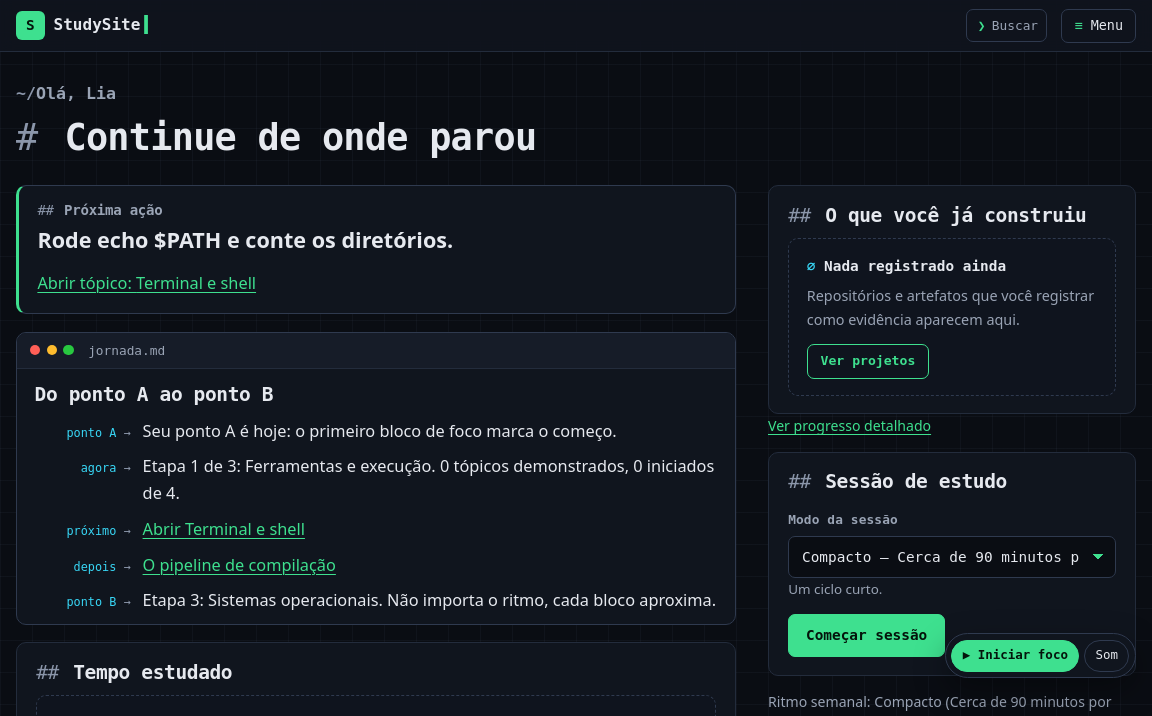
Test: paleta de comandos › avisa quando nada foi encontrado
The width and height of the screenshot is (1152, 716).
Click the button "Buscar" at (1006, 26), box [966, 9, 1047, 42]
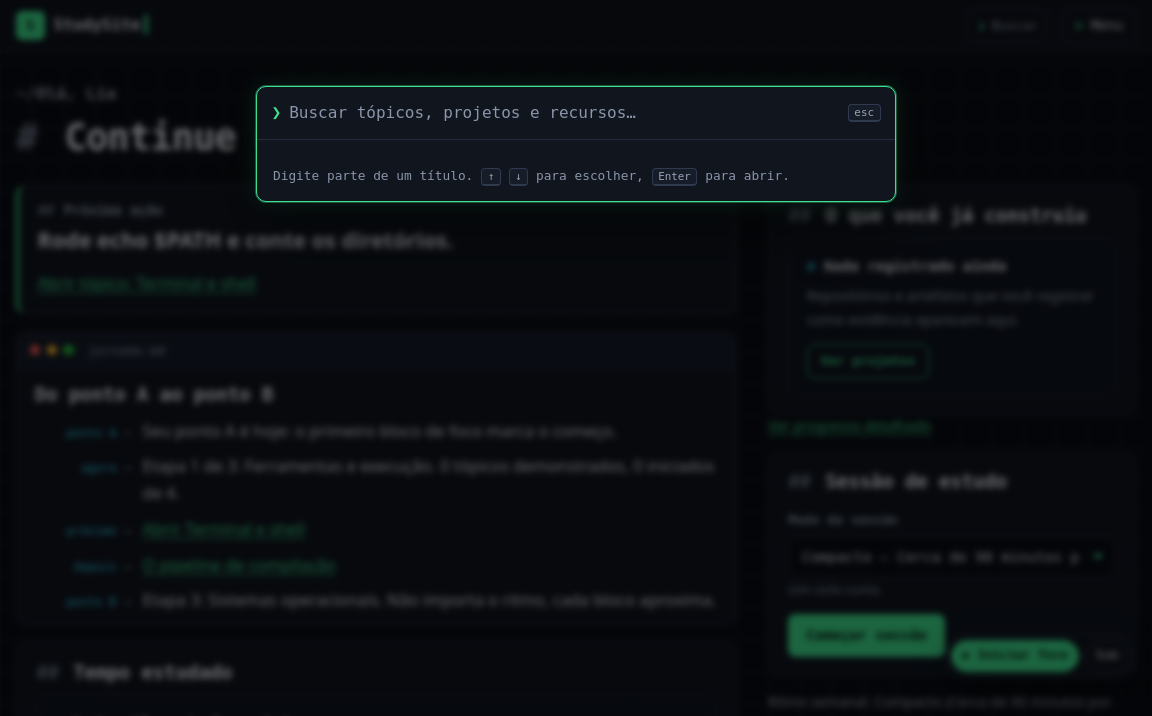
Type "zzzz" into the dropdown at (564, 113), box [289, 87, 840, 139]
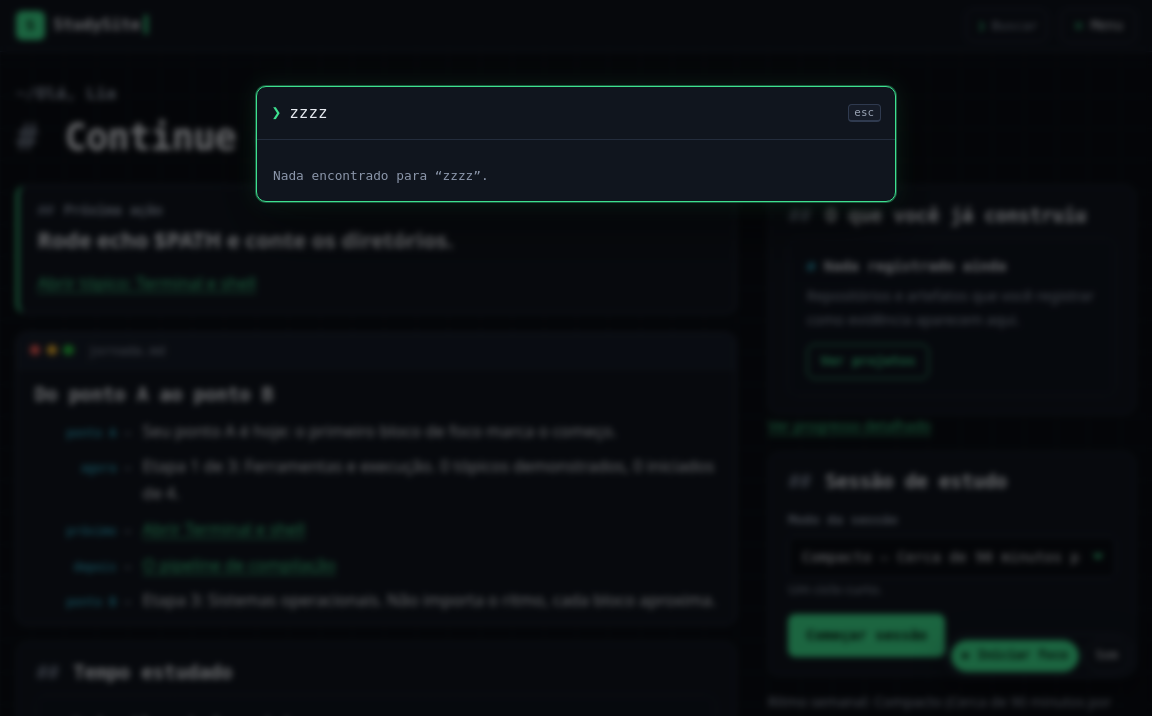
Check: the text "Nada encontrado para “zzzz”." is shown, box [273, 168, 489, 183]
